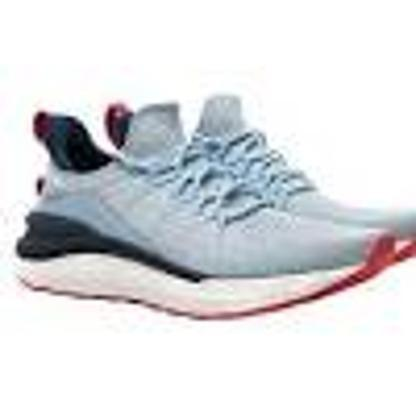not trash: (15, 90, 416, 318)
